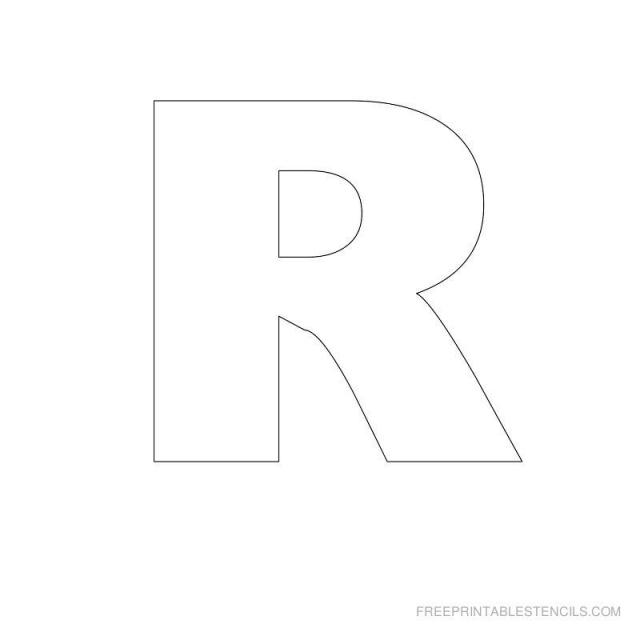R: (70, 58, 538, 511)
